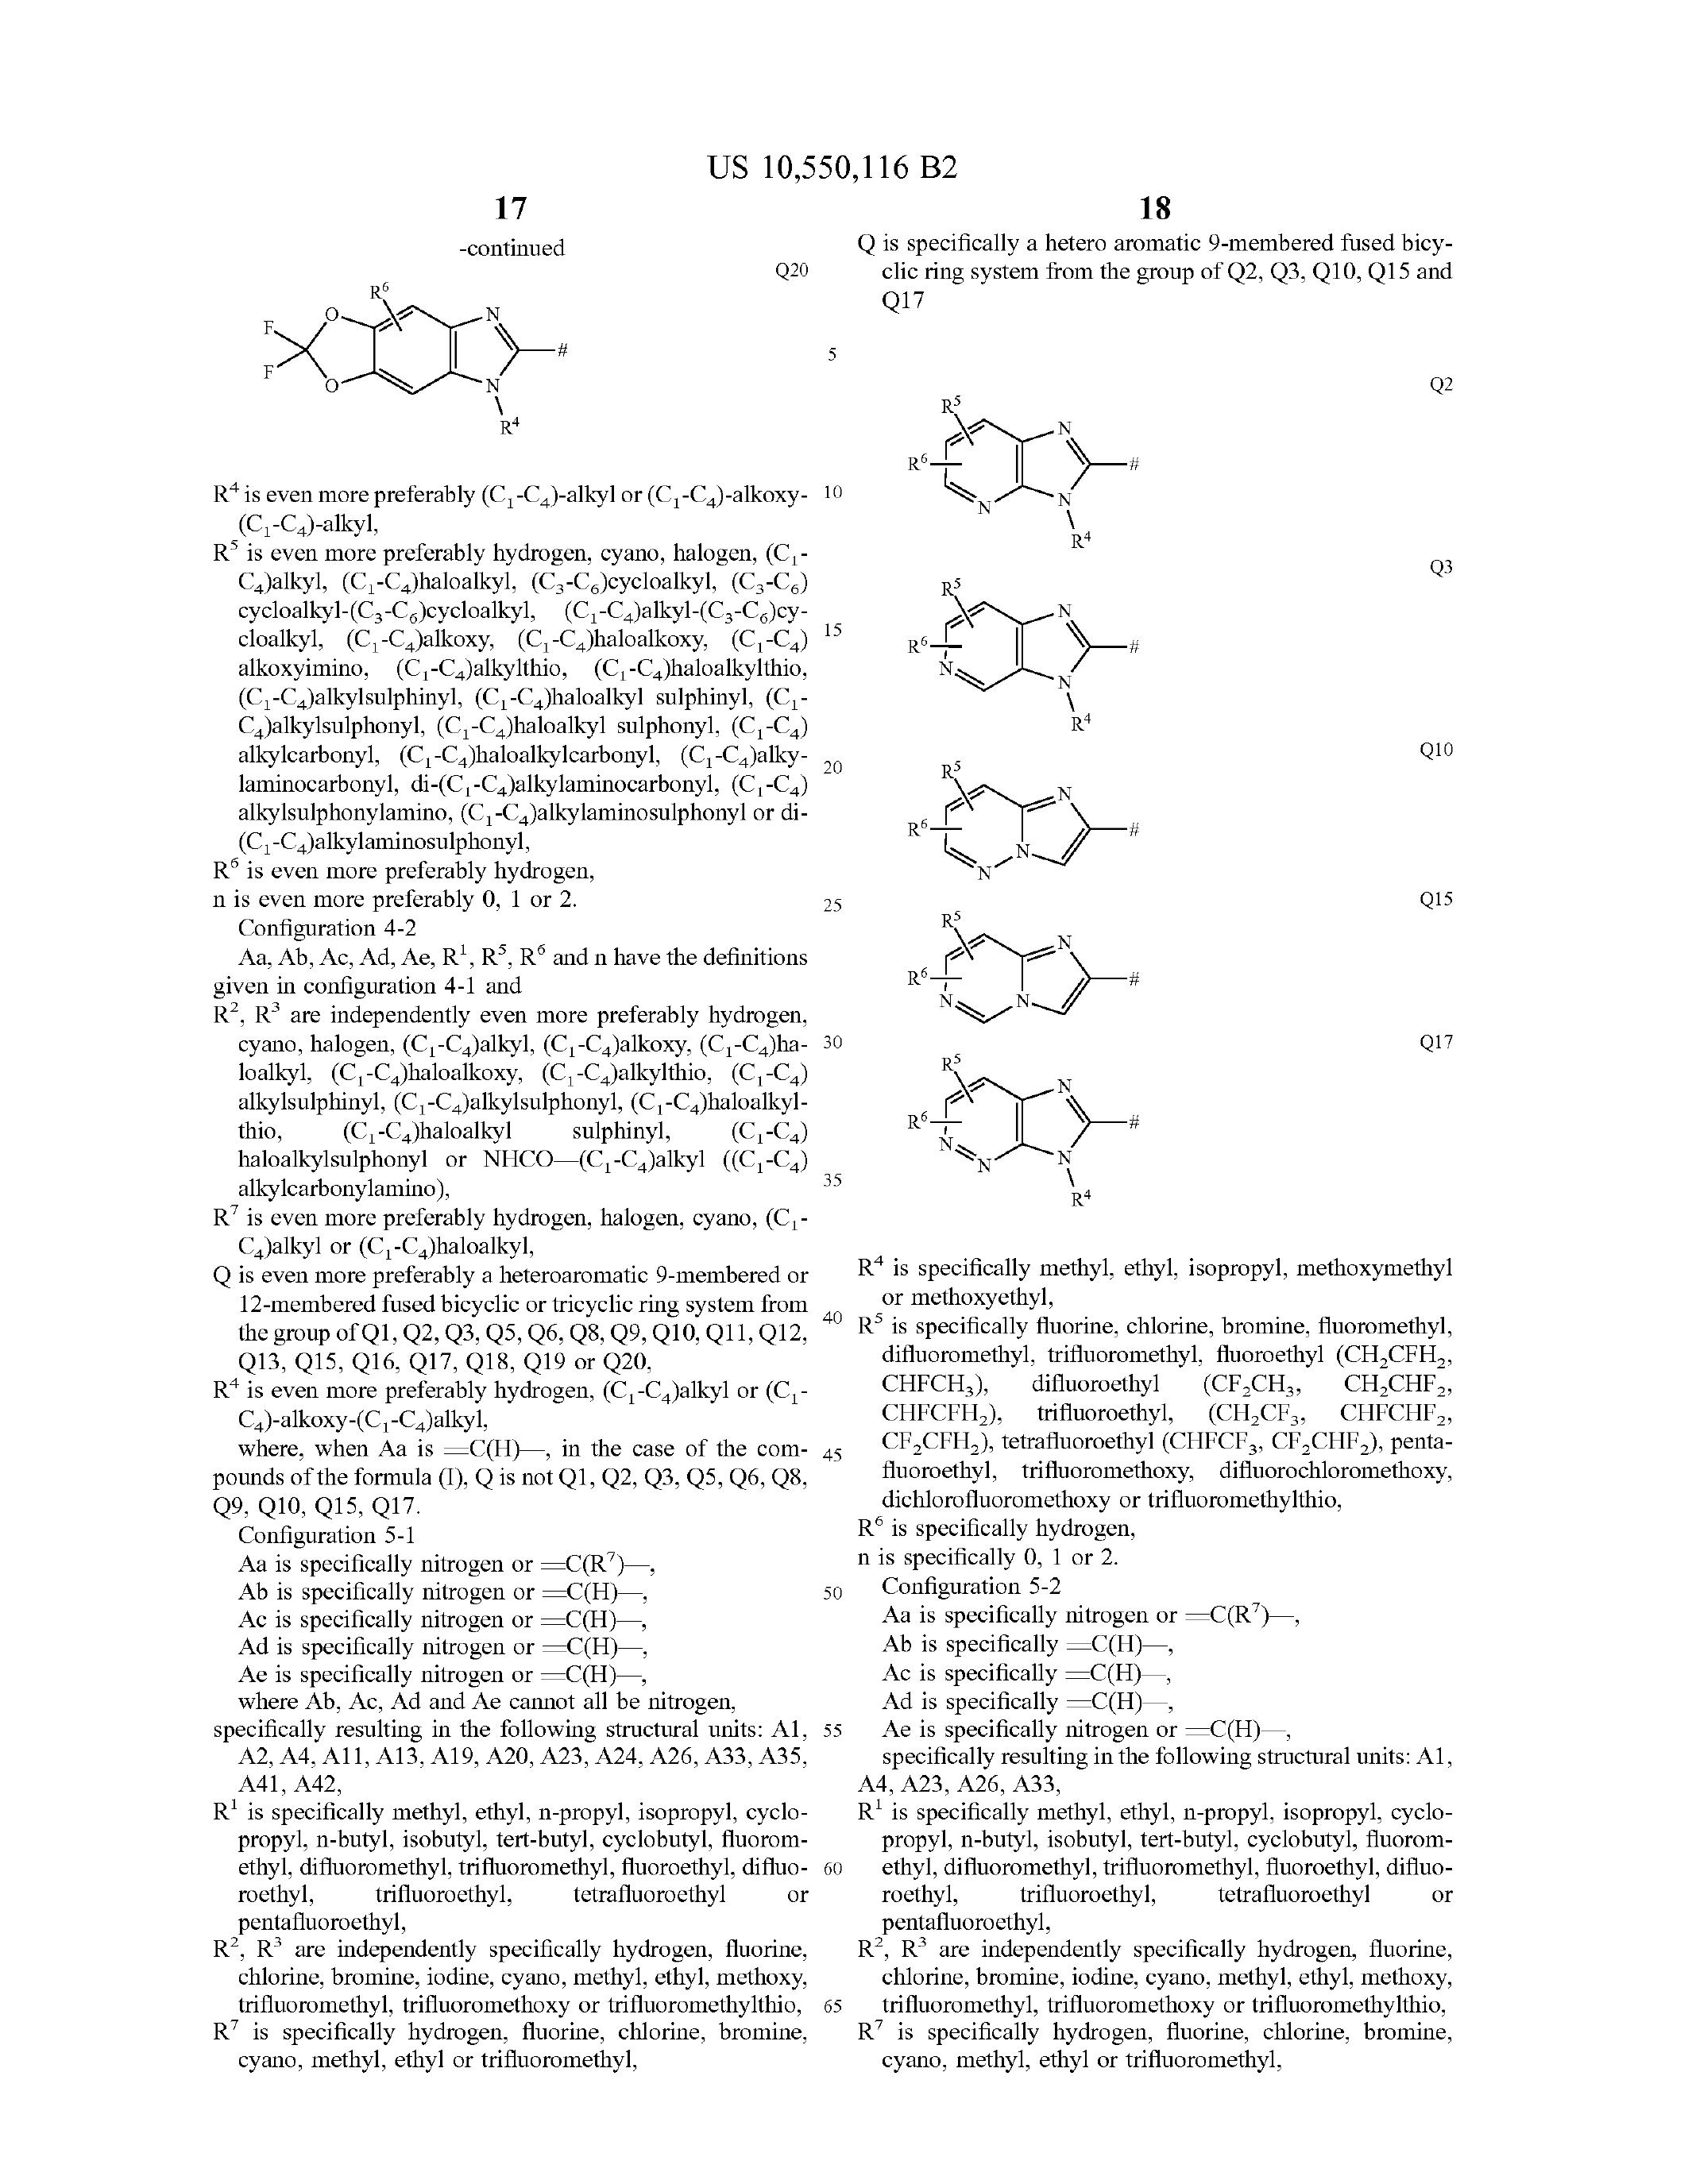markush-structures: (225, 248, 633, 443), (888, 339, 1144, 542), (899, 551, 1142, 730), (894, 1049, 1161, 1207), (904, 888, 1138, 1055), (903, 737, 1131, 874)
